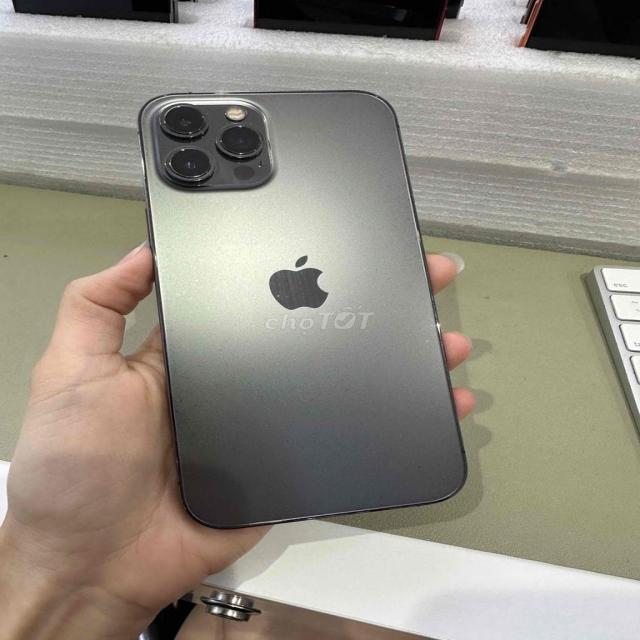gen_12_13: (135, 76, 483, 546)
